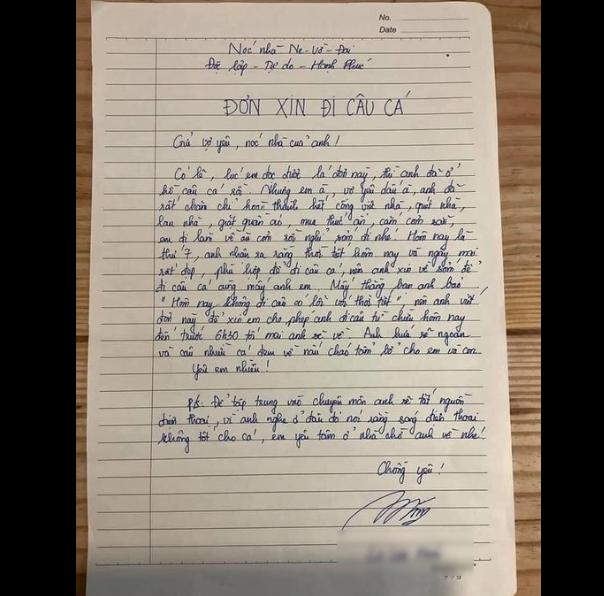text: (154, 424, 488, 456), (157, 290, 490, 319), (156, 408, 480, 434), (153, 324, 475, 348), (157, 195, 465, 220), (156, 226, 476, 250), (156, 180, 468, 204), (186, 388, 474, 414), (154, 276, 465, 300), (157, 243, 478, 266), (156, 259, 481, 281), (155, 210, 459, 233), (154, 308, 469, 330), (172, 162, 465, 184), (222, 89, 414, 119), (158, 343, 480, 359), (340, 486, 438, 534), (172, 130, 341, 154), (203, 56, 374, 76), (225, 38, 354, 57), (189, 357, 272, 382), (374, 459, 448, 487)
